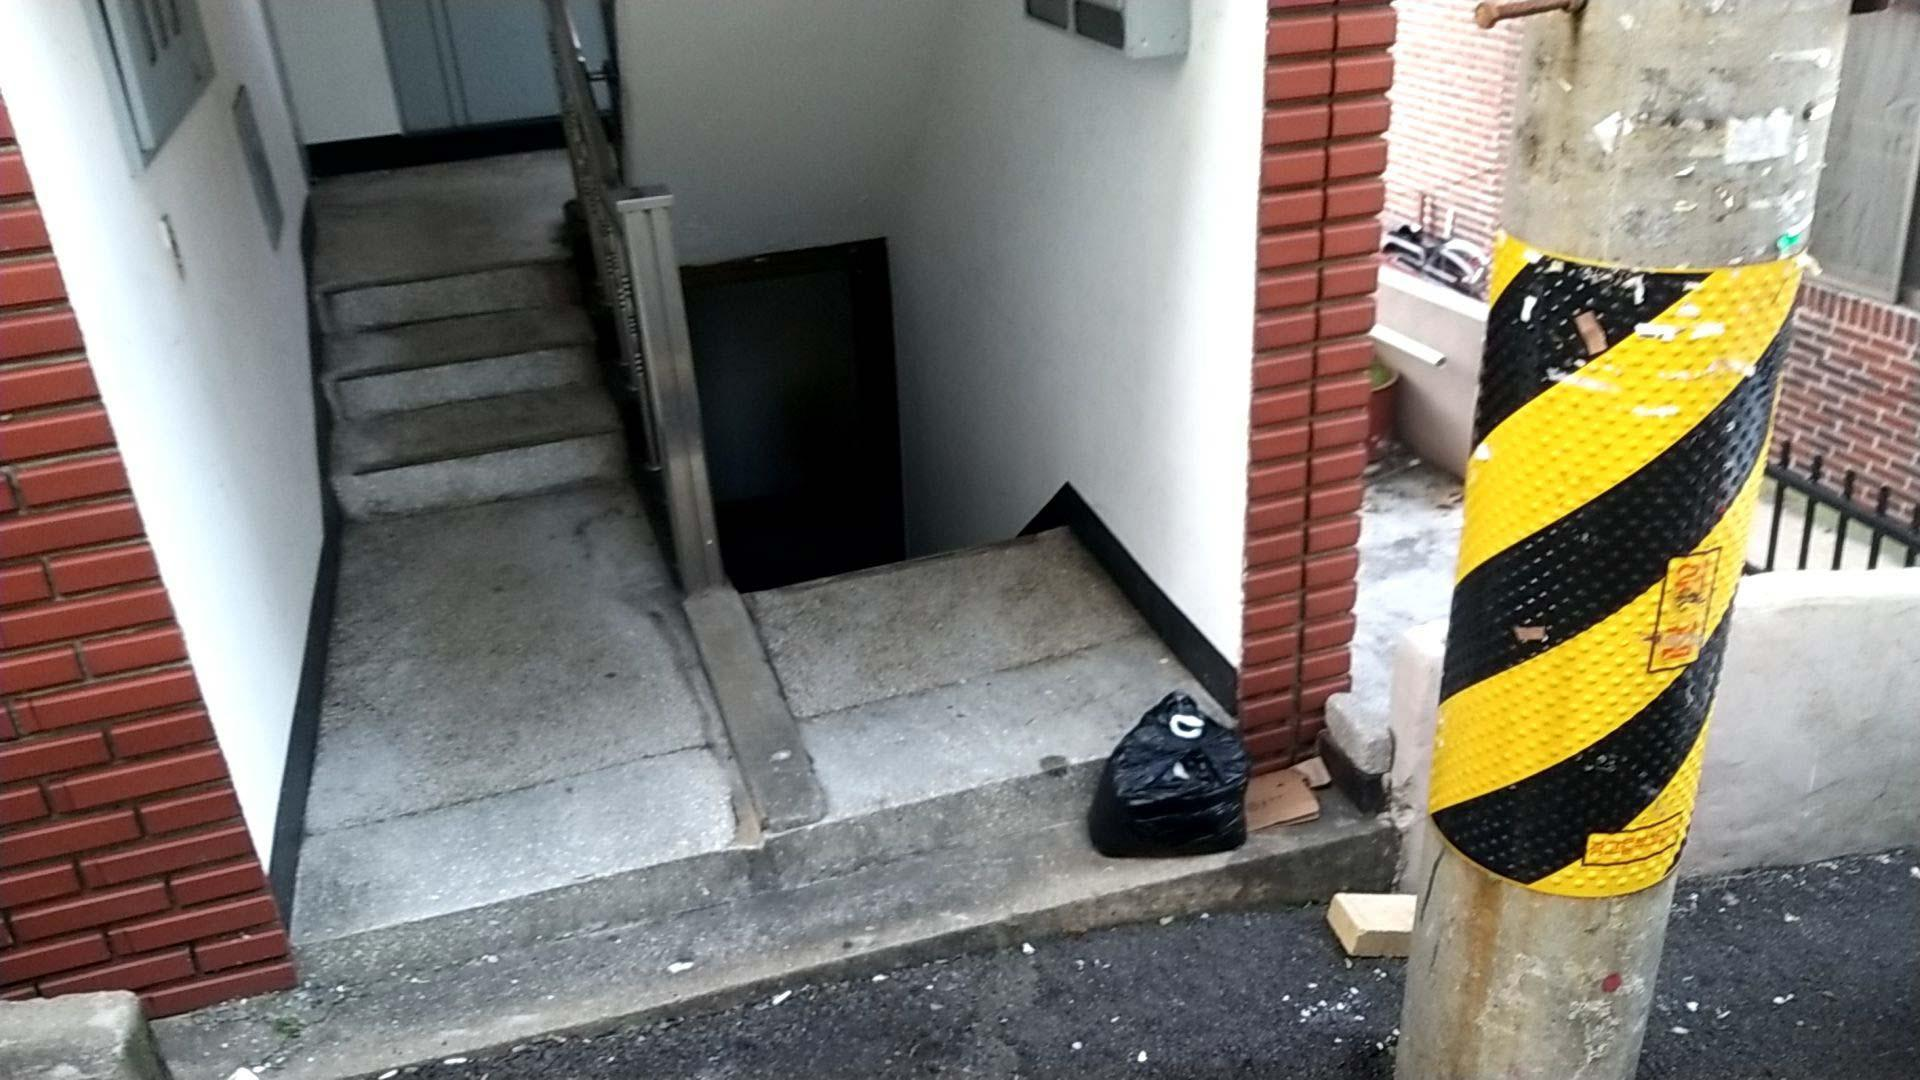black_bag: (1075, 684, 1255, 862)
